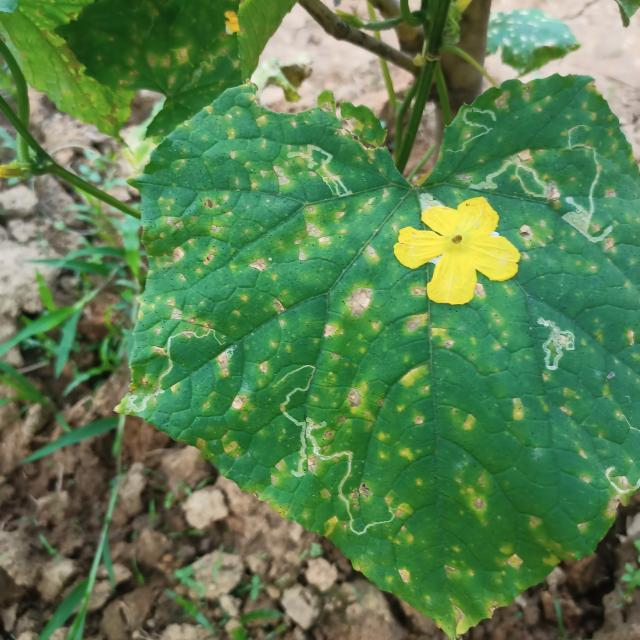disease_cucumber: (147, 96, 635, 628)
